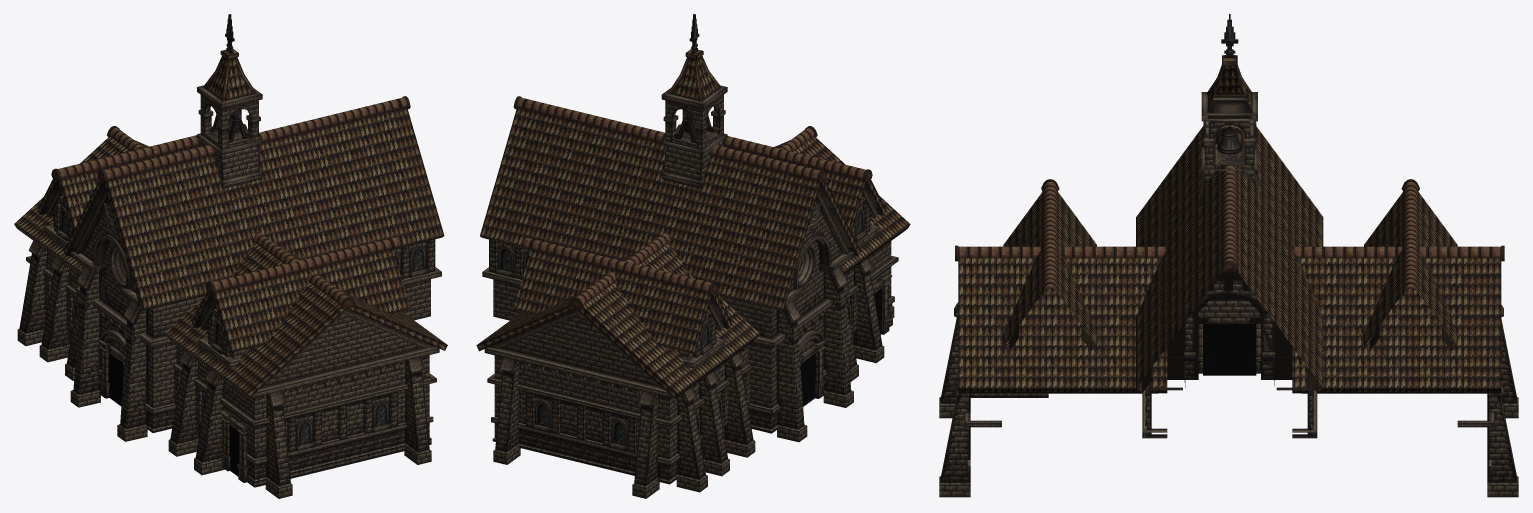
Rendered from EnvBdgMD_Church_Sea_A_Outdoor_A.FBX.
3 renders of one model, left to right at view 1: azimuth 30°, elevation 25°; view 2: azimuth 150°, elevation 25°; view 3: azimuth 270°, elevation 25°, orthographic. The views are drawn at different scales.
Visible parts, largest first — view 1: EnvBdgMD_Church_Sea_A_Outdoor_A; view 2: EnvBdgMD_Church_Sea_A_Outdoor_A; view 3: EnvBdgMD_Church_Sea_A_Outdoor_A.
Part boxes in pixels (x1,y1,x2,y2): EnvBdgMD_Church_Sea_A_Outdoor_A: (14,14,447,498); EnvBdgMD_Church_Sea_A_Outdoor_A: (476,14,910,498); EnvBdgMD_Church_Sea_A_Outdoor_A: (939,14,1518,497).
Size of the model in its own units: 1335 by 1550 by 1855.
